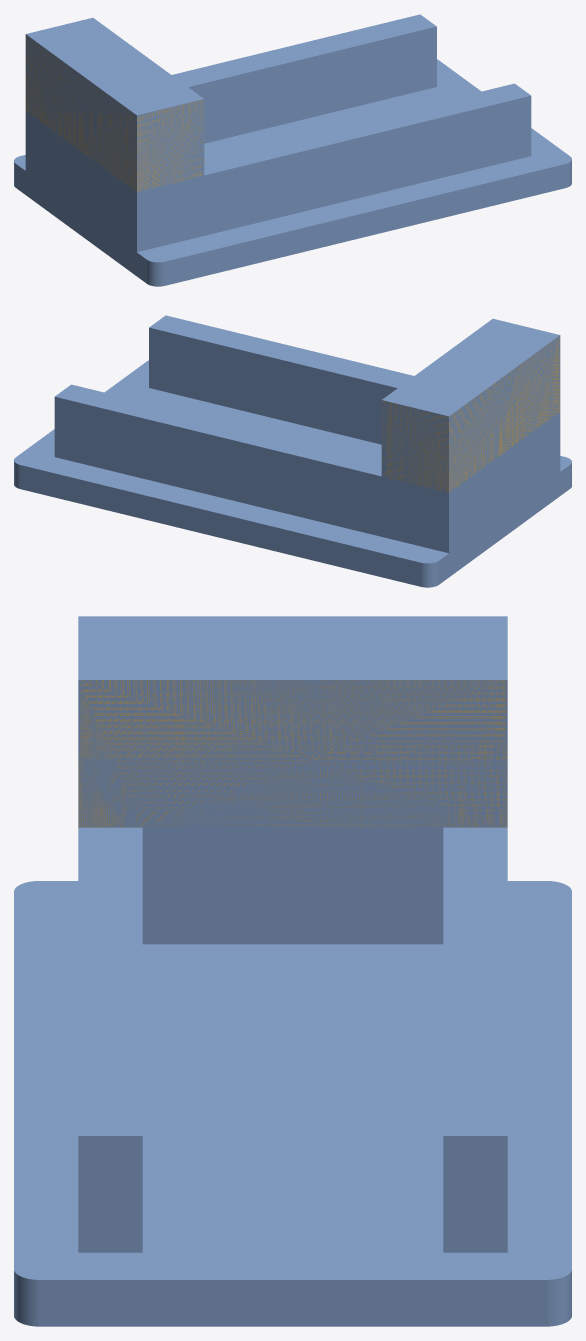
File: step_04.glb
3 renders of one model, top to bottom at view 1: azimuth 30°, elevation 25°; view 2: azimuth 150°, elevation 25°; view 3: azimuth 270°, elevation 25°, orthographic. The views are drawn at different scales.
Visible parts, largest first — view 1: part__body, added__body; view 2: part__body, added__body; view 3: part__body, added__body.
Part boxes in pixels (x1,y1,x2,y2): part__body: [14, 14, 571, 286]; added__body: [25, 34, 204, 191]; part__body: [14, 315, 571, 587]; added__body: [381, 336, 560, 492]; part__body: [14, 616, 571, 1326]; added__body: [78, 680, 507, 827].
Bounding box in the file's own units: 220 × 80 × 130.
